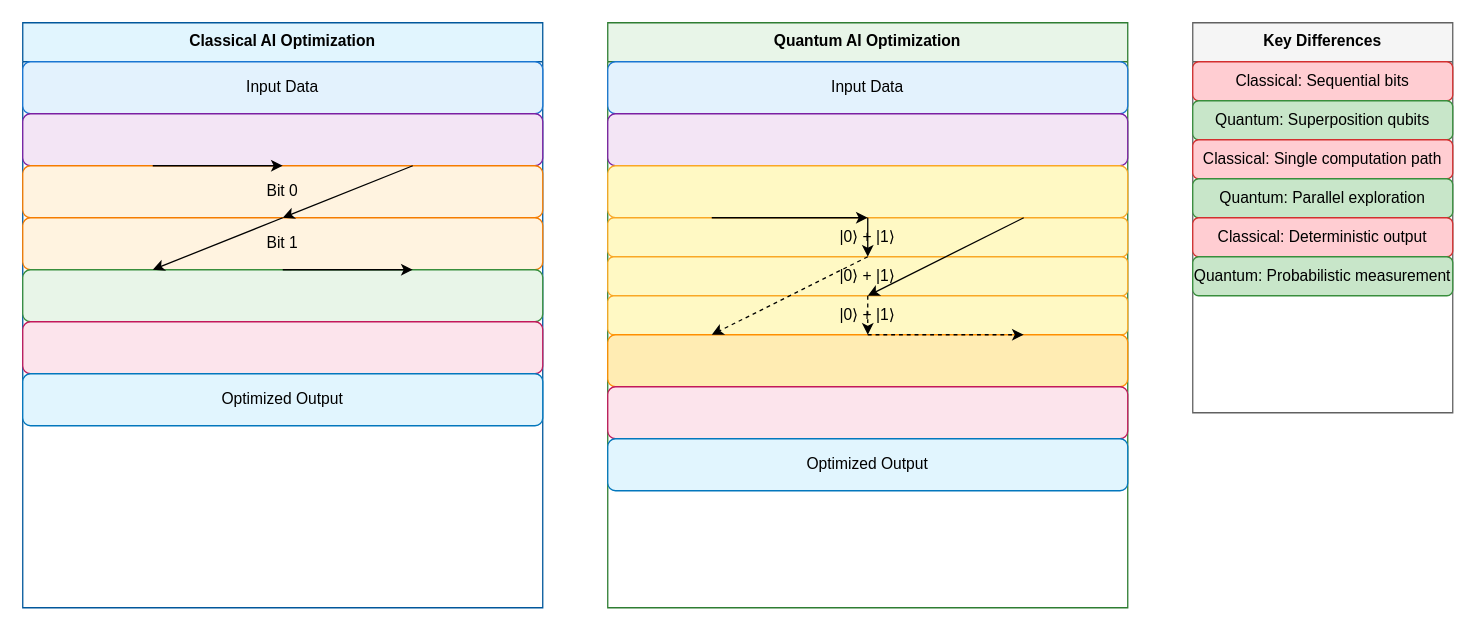
This 1476x631 diagram has some shape labels left out. Here are the shapes that lost their labels. From the top down, the centre of each, then its label:
At pixel 282 139: "Sequential Processing".
At pixel 867 139: "Parallel Processing".
At pixel 867 191: "Qubit Superposition".
At pixel 282 295: "Linear Computation".
At pixel 282 347: "Single Solution Path".
At pixel 867 360: "Entangled States".
At pixel 867 412: "Multiple Solution Paths".
